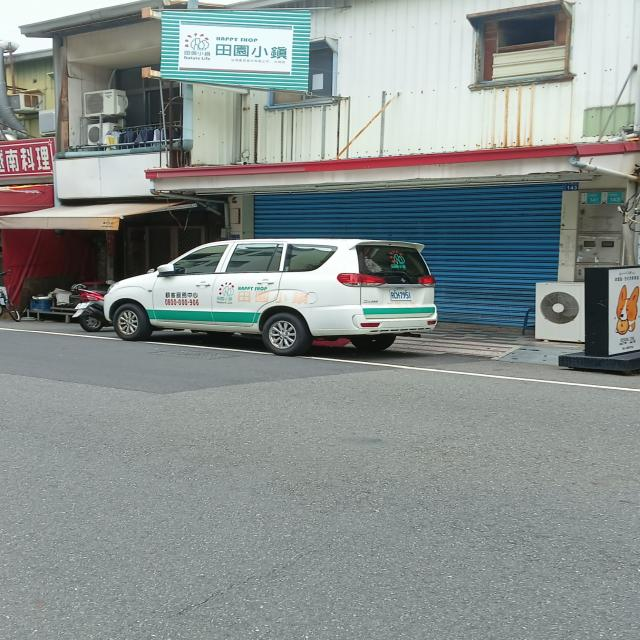license-plate: (390, 289, 415, 302)
